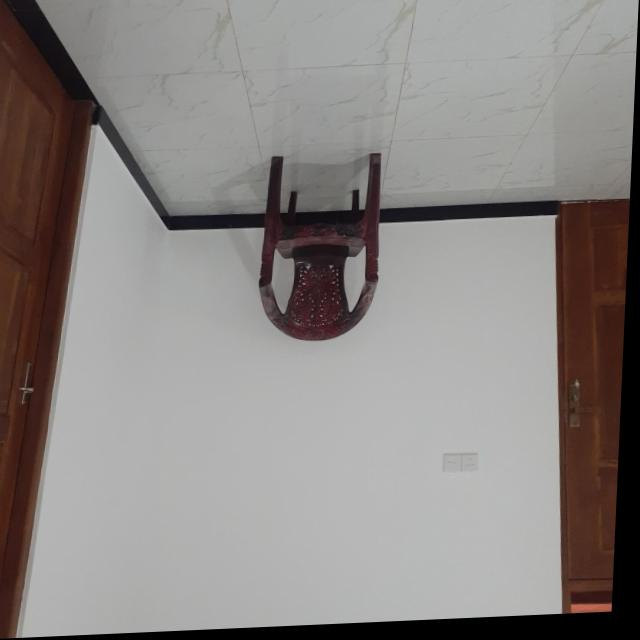Chair: (260, 154, 385, 348)
